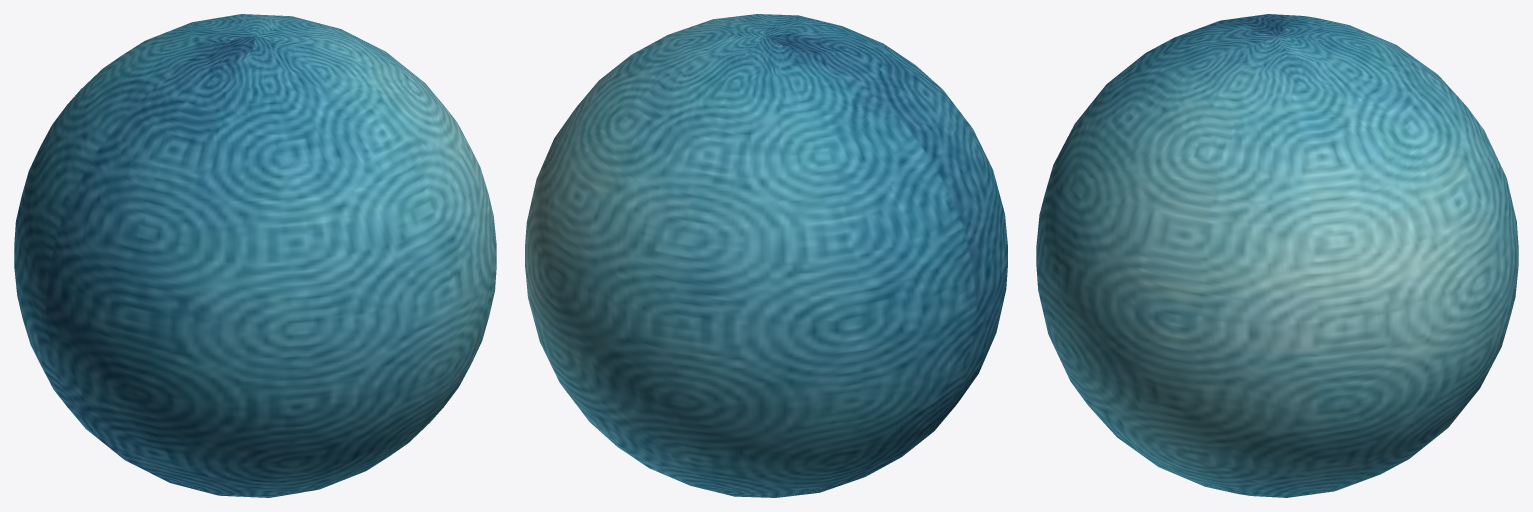
File: blueprojectile.obj
The picture shows the model from 3 angles, left to right: view 1: azimuth 30°, elevation 25°; view 2: azimuth 150°, elevation 25°; view 3: azimuth 270°, elevation 25°; orthographic projection.
Bounding box in the file's own units: 2 × 2 × 1.99.
Materials: 1 (1 with a texture image).
